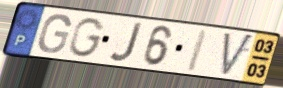6: (142, 25, 174, 67)
G: (67, 16, 107, 59), (36, 13, 73, 55)
I: (183, 28, 211, 74)
J: (107, 21, 145, 64)
V: (220, 31, 256, 79)
